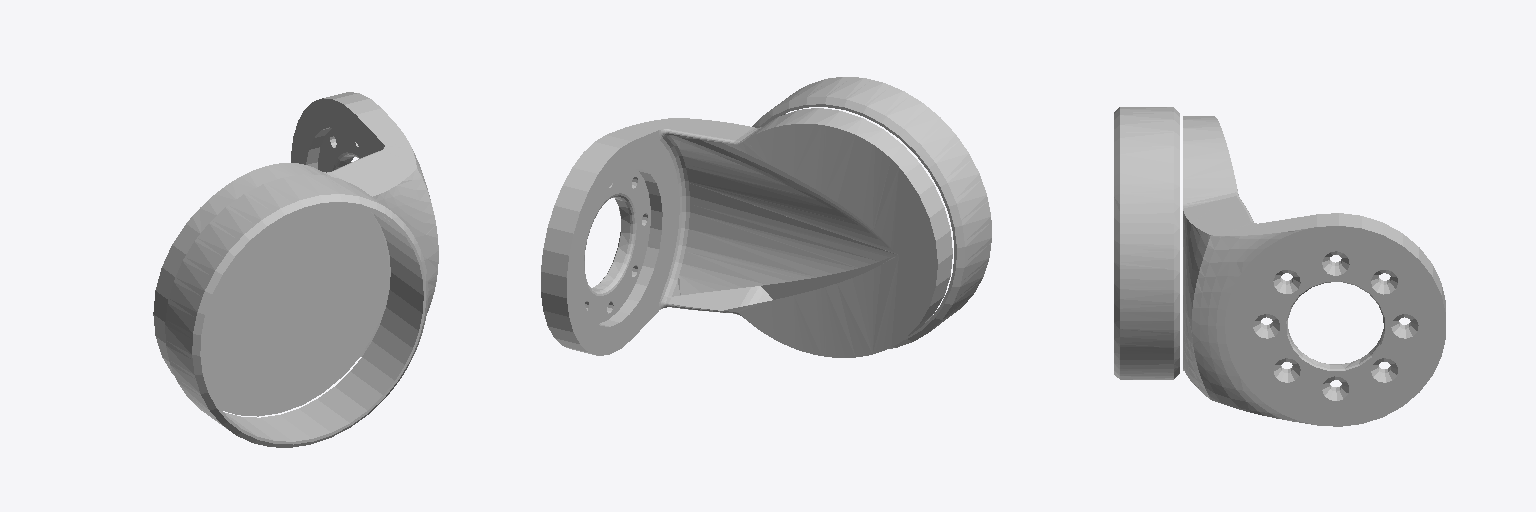
Rendered from elbow_left.obj.
3 views of the same model, side by side, from view 1: azimuth 30°, elevation 25°; view 2: azimuth 150°, elevation 25°; view 3: azimuth 270°, elevation 25° (orthographic).
Parts seen in each view (by area): view 1: elbow_left; view 2: elbow_left; view 3: elbow_left.
Boxes of the visible parts, <box> form: elbow_left: <box>153,92,438,447</box>; elbow_left: <box>541,77,991,357</box>; elbow_left: <box>1114,107,1445,426</box>.
Bounding box in the file's own units: 0.1108 × 0.091 × 0.1108.